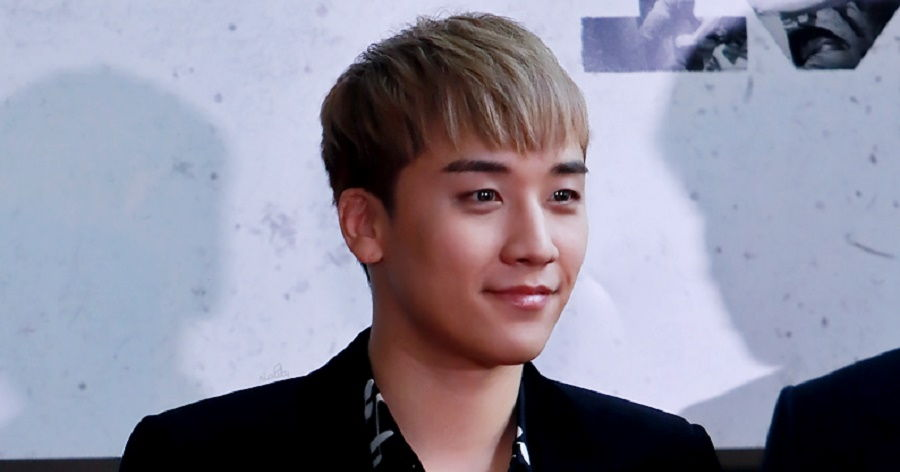without_mask: (429, 147, 590, 368)
